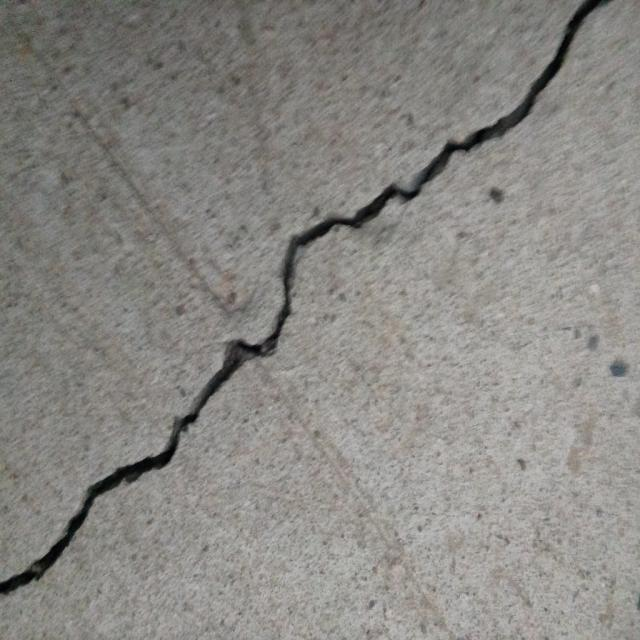cracks: (7, 4, 620, 575)
